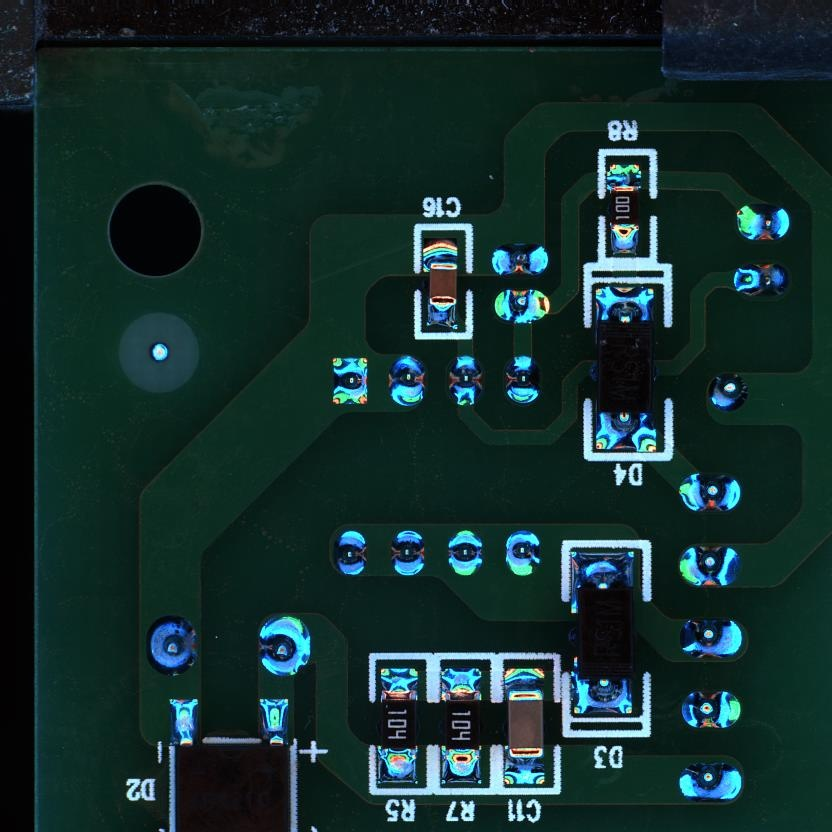spot: (255, 613, 312, 678), (144, 613, 199, 680), (678, 543, 744, 587), (680, 617, 744, 662), (677, 472, 743, 515), (676, 760, 744, 801), (680, 689, 743, 732), (444, 353, 486, 410), (328, 355, 371, 408), (386, 353, 427, 408), (490, 241, 548, 278), (736, 203, 791, 242), (733, 260, 789, 298), (504, 353, 542, 407), (493, 288, 551, 323), (503, 529, 543, 579), (389, 526, 427, 578), (446, 529, 486, 577), (706, 371, 748, 414), (333, 528, 369, 578)
